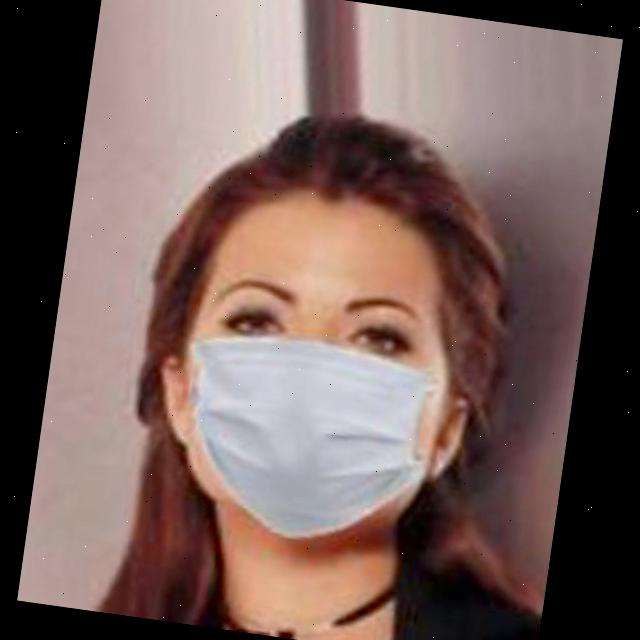suspicion: (73, 100, 534, 543)
